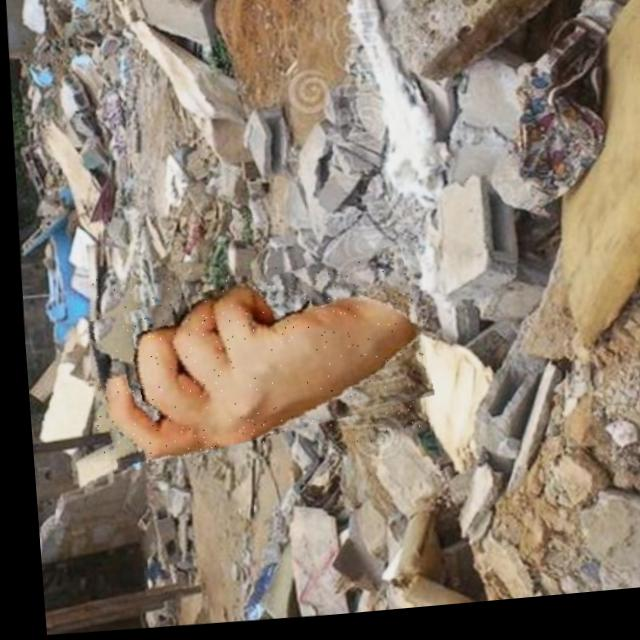Person in Rubble: (79, 257, 426, 467)
